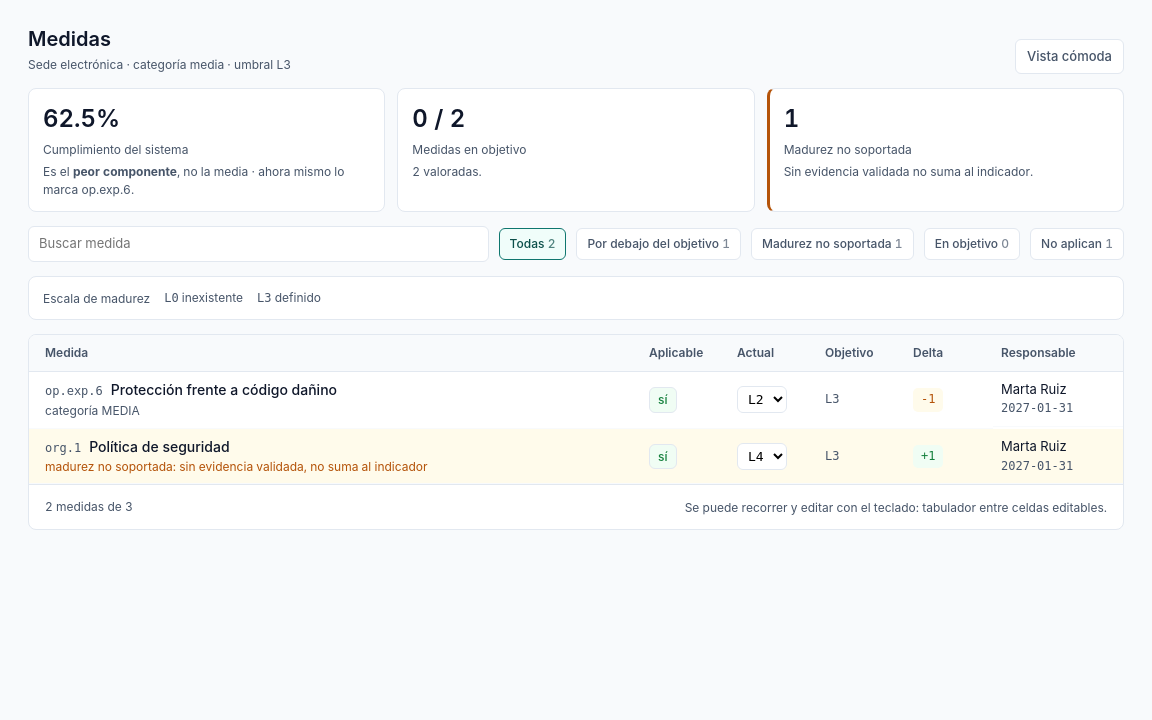
Test: ChecklistView › al marcar no aplicable recuerda que falta justificarlo
The image size is (1152, 720).
Step 1. Click the button with class "chip" in the row of "Protección frente a código dañino" → (663, 400), box top-left (649, 387), bottom-right (676, 412)
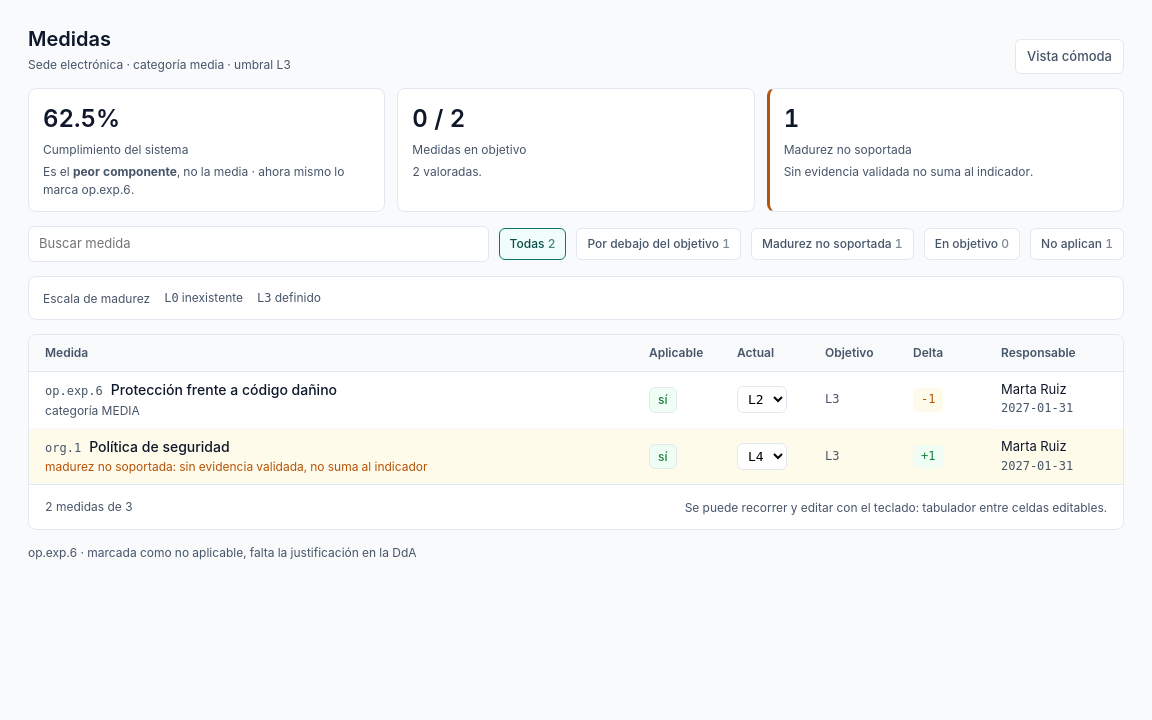
Check: the text "falta la justificación en la DdA" is shown, box top-left (28, 545), bottom-right (416, 560)
